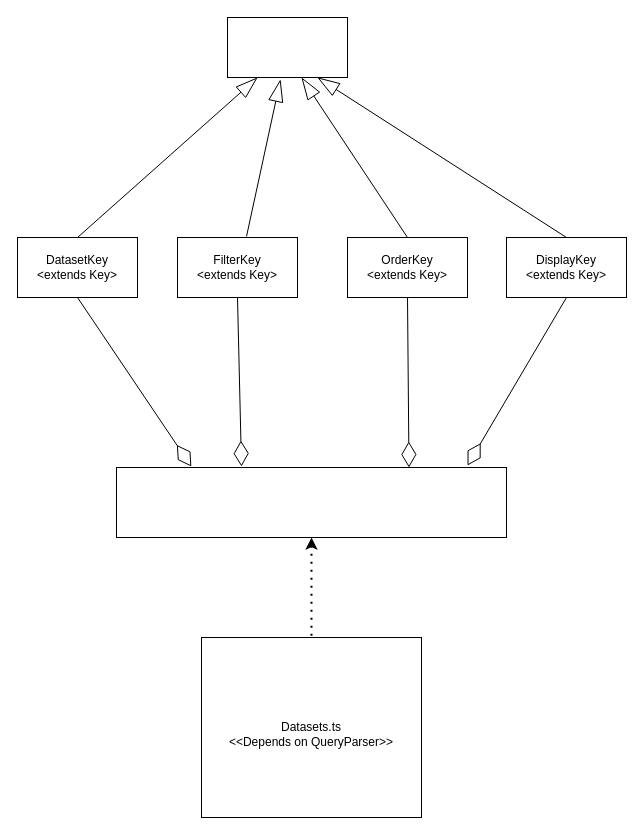
Image size: 644x835. Some labels were removed from this diagram. Each missing label, with the centre of its shape:
"Key <<Class>>" belongs at pixel 287 47.
"QueryParser <<Class>>" belongs at pixel 311 502.
